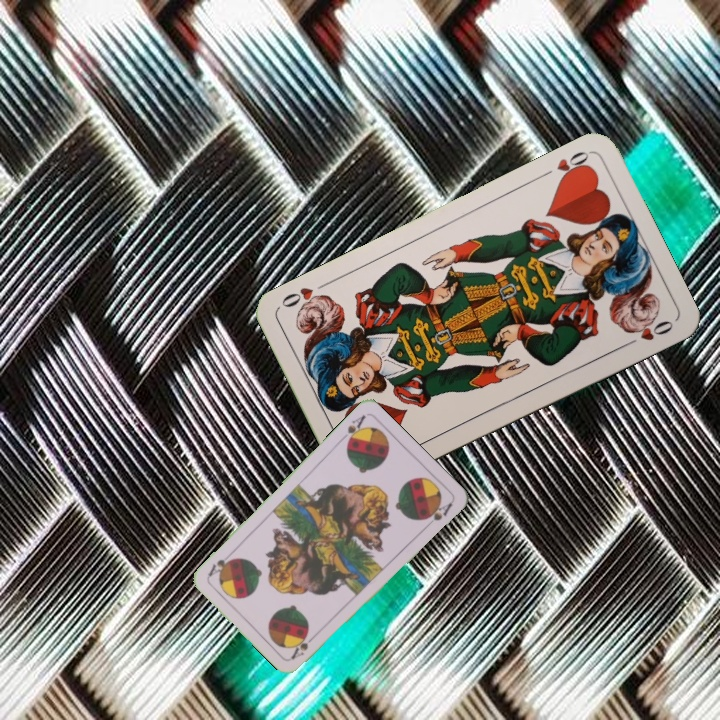HO: (537, 147, 593, 185)
SA: (336, 411, 368, 448), (287, 630, 320, 662)
